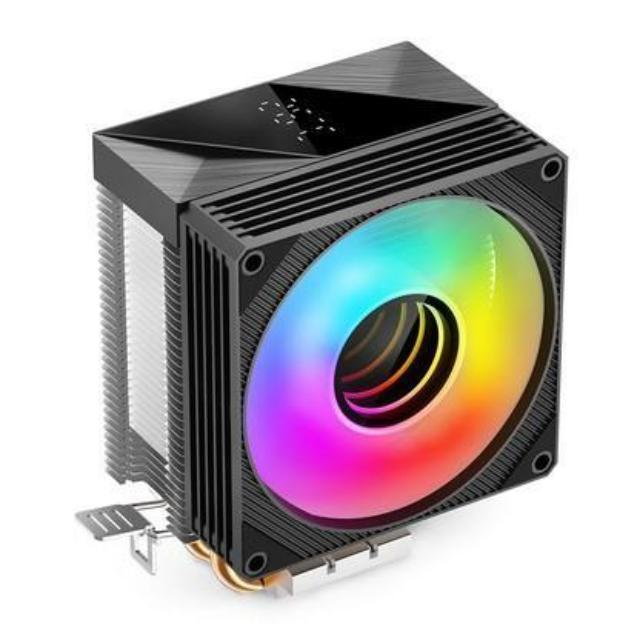CPU_Fan: (87, 40, 565, 598)
